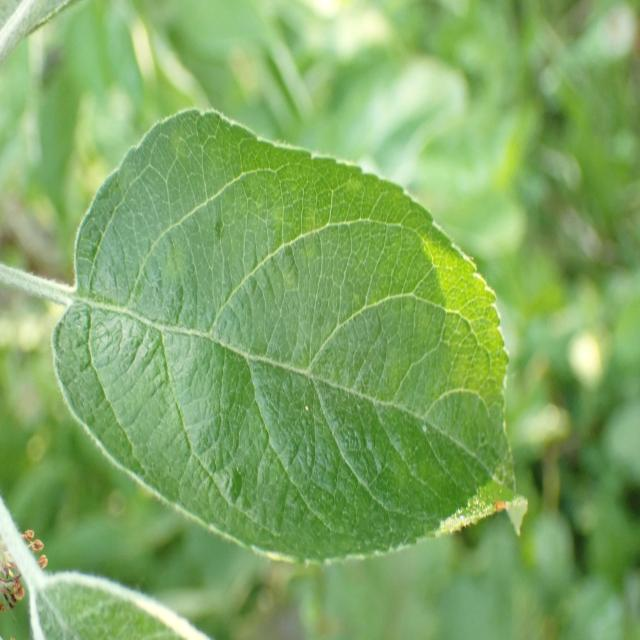scab: (91, 156, 471, 400)
